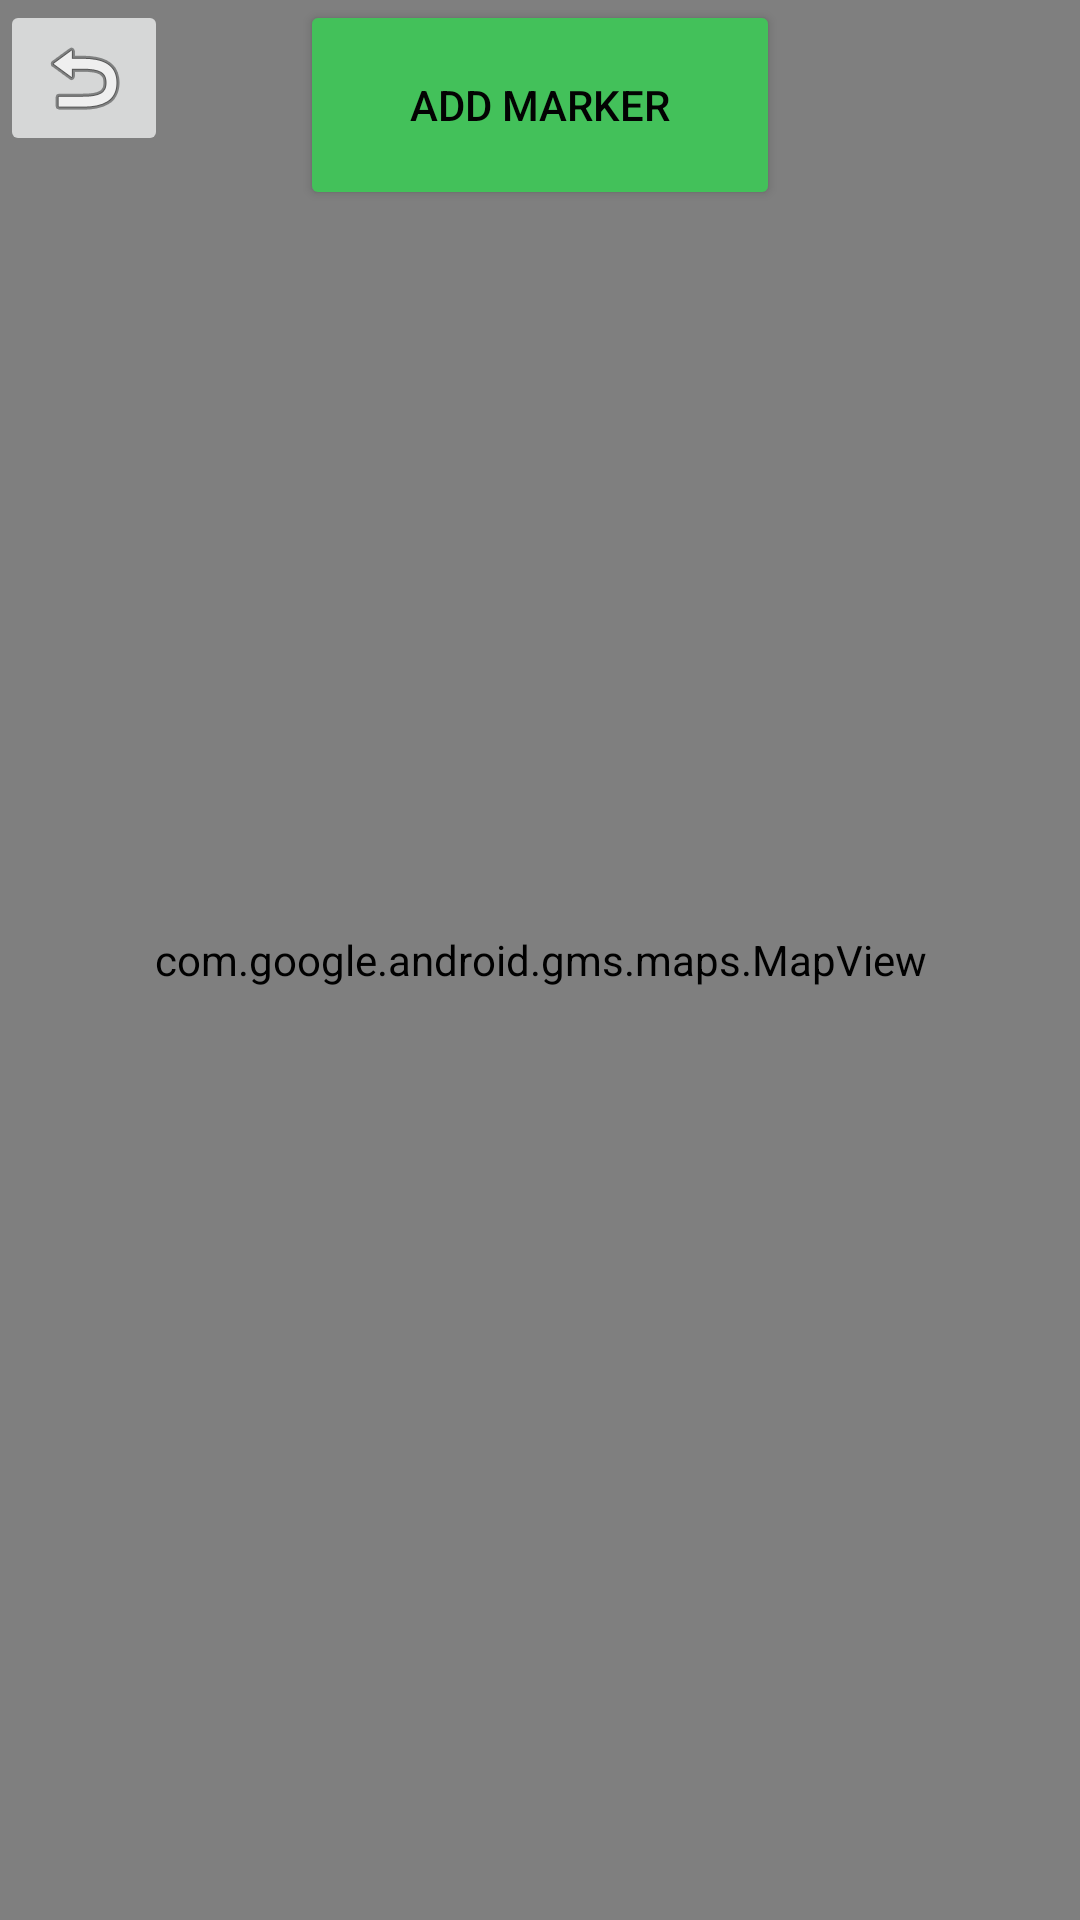

Screen size 1080px×1920px. Icon name, then its box in pixels as (x1, y1, x2, y2):
revert: (12, 18, 156, 138)
